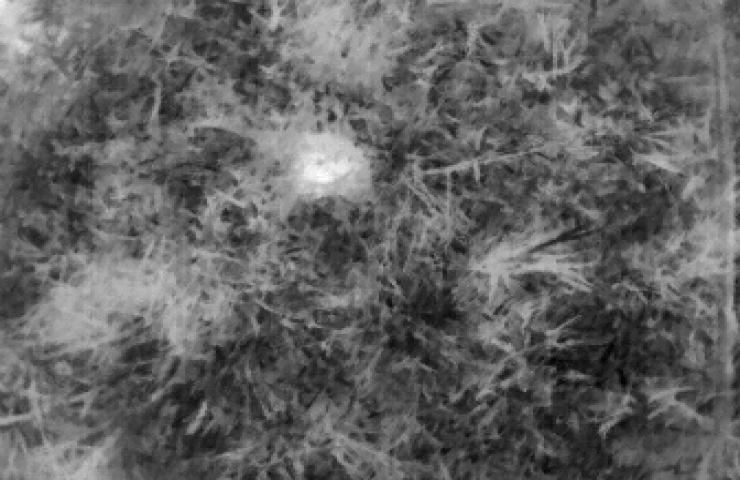landmines: (296, 135, 362, 193)
